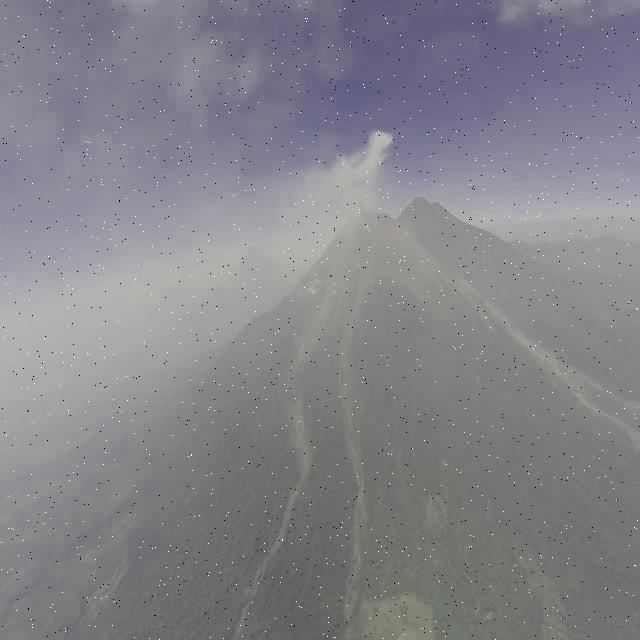Plume: (323, 125, 392, 209)
Summit: (342, 201, 389, 226)
